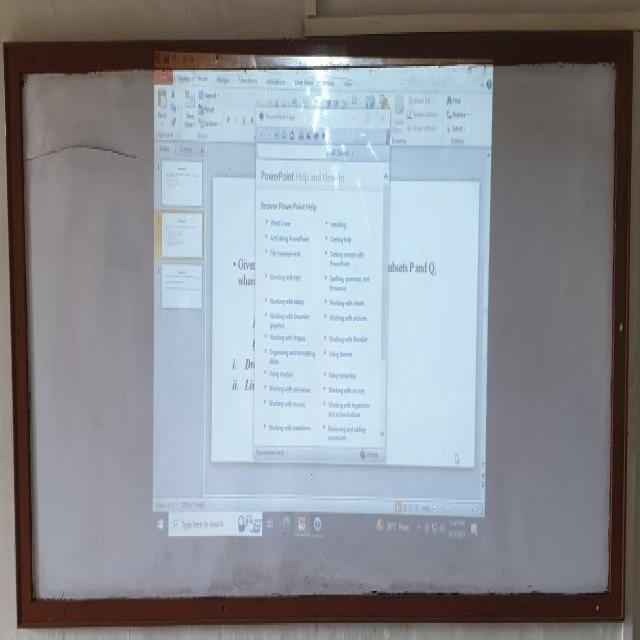Slide: (149, 52, 492, 546)
White-board: (13, 45, 621, 614)
